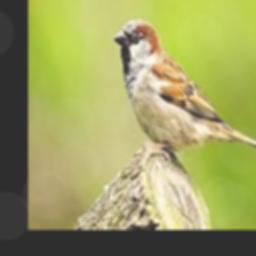Sparrow: (112, 18, 256, 165)
